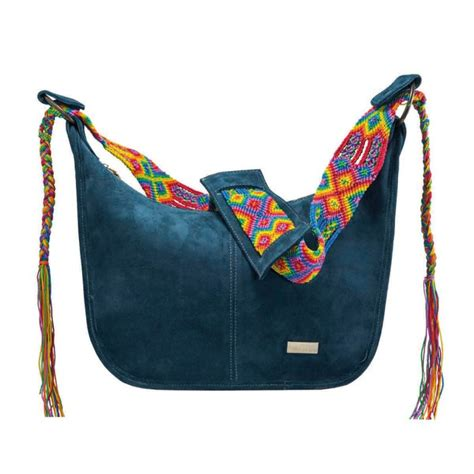gamuza: (35, 73, 423, 393)
